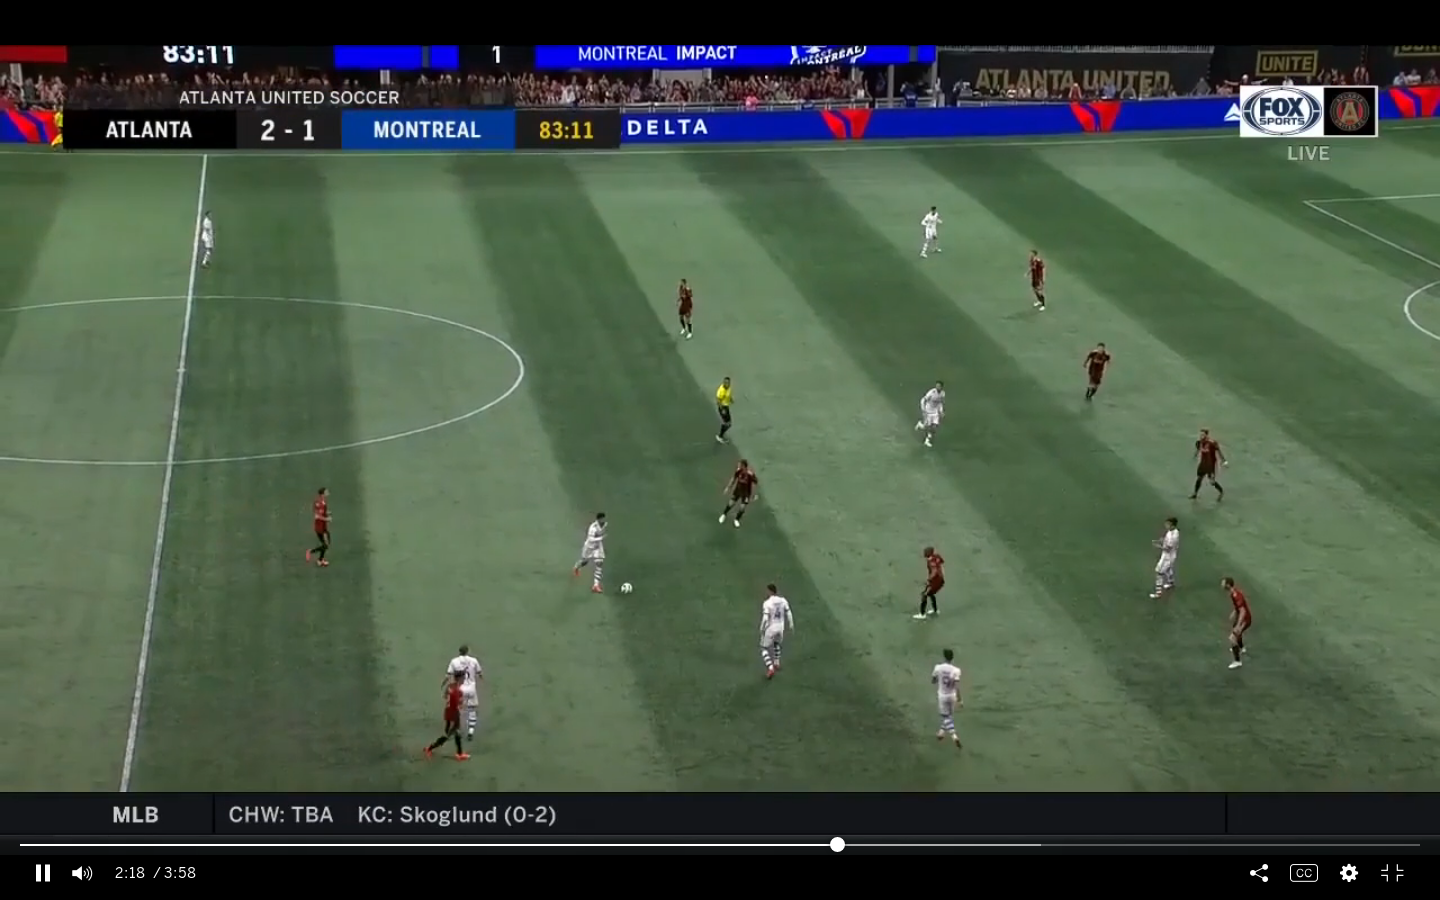referee: (712, 371, 745, 445)
soccer player: (444, 642, 484, 742), (927, 649, 965, 748), (758, 583, 795, 677), (299, 485, 339, 571), (1221, 576, 1255, 668), (433, 666, 464, 763), (1192, 426, 1230, 505), (572, 509, 608, 592), (719, 460, 762, 529), (1150, 516, 1184, 600), (915, 379, 953, 449), (916, 543, 948, 622), (1081, 342, 1116, 409), (1025, 243, 1055, 317), (916, 202, 948, 262), (675, 276, 695, 339), (198, 209, 215, 268)
soccerball: (618, 577, 636, 600)
